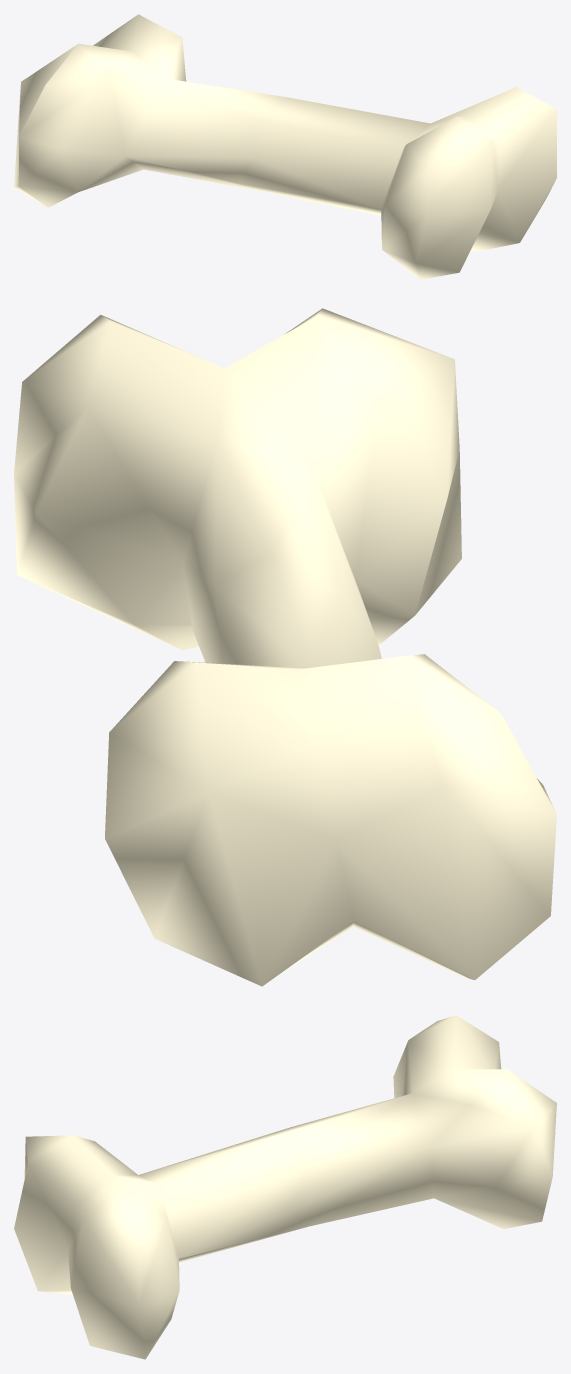
The model's file is 822ee0b4-56dc-46d7-b38e-faa67ed1fe68.glb.
The picture shows the model from 3 angles, top to bottom: view 1: azimuth 30°, elevation 25°; view 2: azimuth 150°, elevation 25°; view 3: azimuth 270°, elevation 25°; orthographic projection. The views are drawn at different scales.
Parts seen in each view (by area): view 1: Bone; view 2: Bone; view 3: Bone.
Boxes of the visible parts, x1,y1,x2,y2 form: Bone: (14,14,556,279); Bone: (14,308,556,986); Bone: (14,1015,556,1359).
Size of what is drawn, in the model's own units: 0.3342 by 0.1305 by 0.3398.
1 material, 1 textured.
